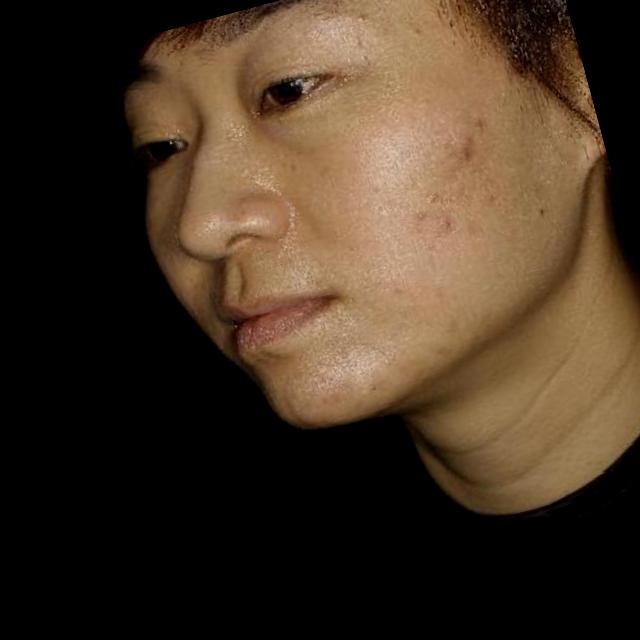acne: (405, 204, 438, 231), (435, 213, 463, 240), (480, 187, 506, 210)
darkspot: (420, 183, 451, 209)
nodules: (446, 132, 484, 170), (344, 3, 377, 30), (408, 22, 429, 44)
